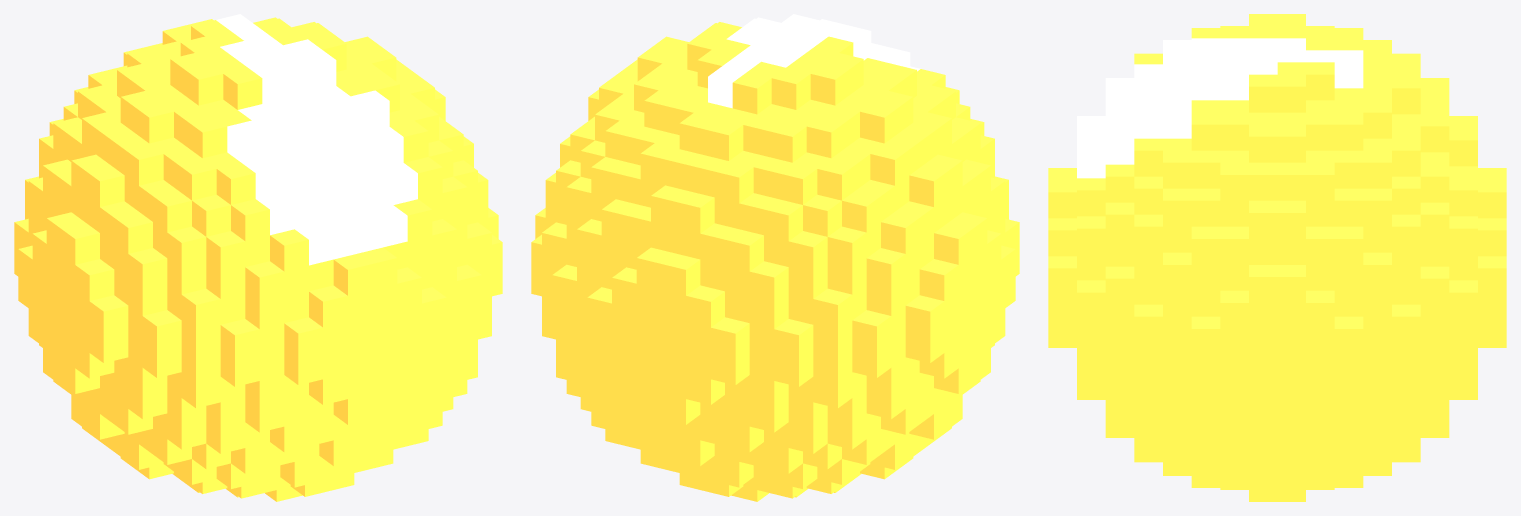
File: item_SUMMON_ELE_FIRE.glb
The picture shows the model from 3 angles, left to right: view 1: azimuth 30°, elevation 25°; view 2: azimuth 150°, elevation 25°; view 3: azimuth 270°, elevation 25°; orthographic projection.
Parts seen in each view (by area): view 1: item_SUMMON_ELE_FIRE; view 2: item_SUMMON_ELE_FIRE; view 3: item_SUMMON_ELE_FIRE.
Boxes of the visible parts, left/top/right/bottom form: item_SUMMON_ELE_FIRE: left=14, top=14, right=502, bottom=501; item_SUMMON_ELE_FIRE: left=531, top=14, right=1019, bottom=501; item_SUMMON_ELE_FIRE: left=1048, top=14, right=1506, bottom=501.
Size of the model in its own units: 0.1818 by 0.1818 by 0.1818.
1 material, 1 textured.
